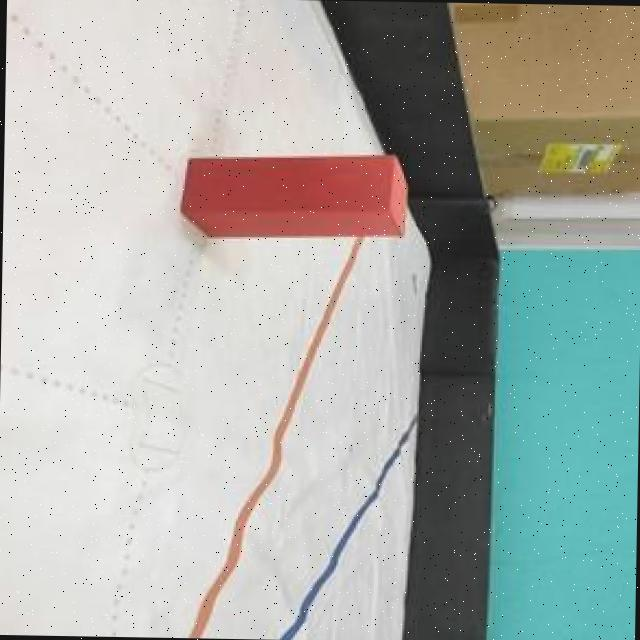redbox: (175, 152, 410, 242)
